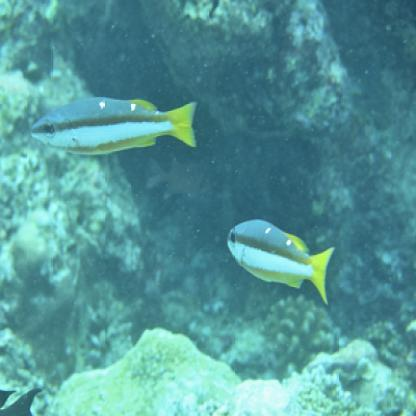snapper: (23, 93, 202, 158), (223, 215, 337, 308)
